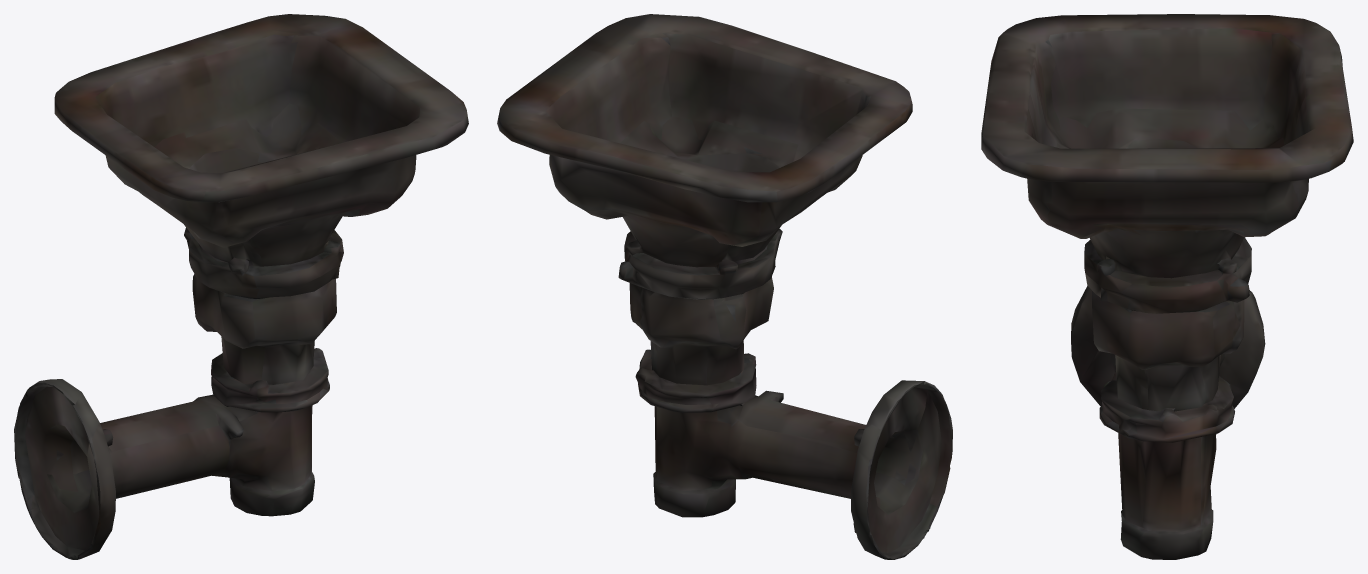
The model's file is old-iron-drainpipe-v001.glb.
The picture shows the model from 3 angles, left to right: view 1: azimuth 30°, elevation 25°; view 2: azimuth 150°, elevation 25°; view 3: azimuth 270°, elevation 25°; orthographic projection. The views are drawn at different scales.
Visible parts, largest first — view 1: old-iron-drainpipe; view 2: old-iron-drainpipe; view 3: old-iron-drainpipe.
Boxes of the visible parts, x1,y1,x2,y2 form: old-iron-drainpipe: (14,14,468,559); old-iron-drainpipe: (497,14,952,559); old-iron-drainpipe: (981,14,1353,559).
Size of the model in its own units: 2.68 by 2.92 by 2.18.
Materials: 1 (1 with a texture image).
